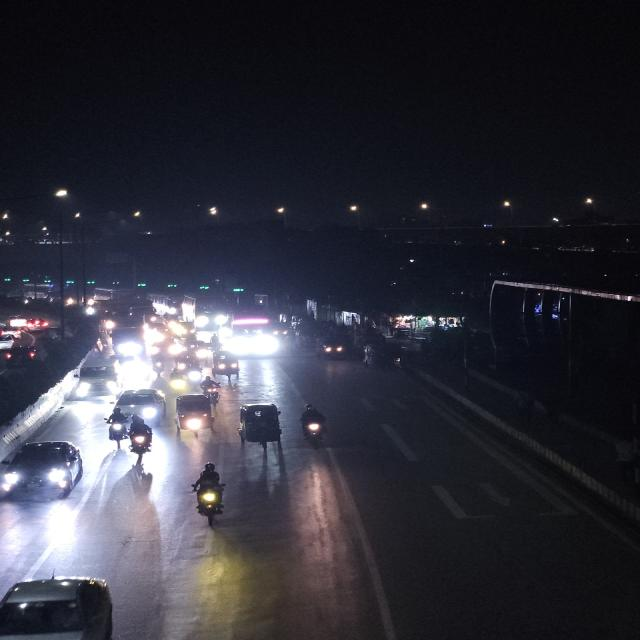bus: (227, 311, 279, 359), (185, 293, 228, 333)
car: (1, 437, 87, 505), (71, 350, 123, 402), (112, 386, 168, 422)
cng: (0, 569, 125, 640), (234, 400, 286, 455), (172, 392, 218, 441), (209, 350, 242, 384), (315, 332, 348, 362), (175, 351, 202, 381), (199, 376, 222, 400), (169, 368, 190, 392)
motorcycle: (189, 460, 230, 526), (298, 402, 331, 450), (127, 412, 154, 462), (105, 408, 129, 450), (199, 375, 222, 403), (167, 368, 189, 392)
